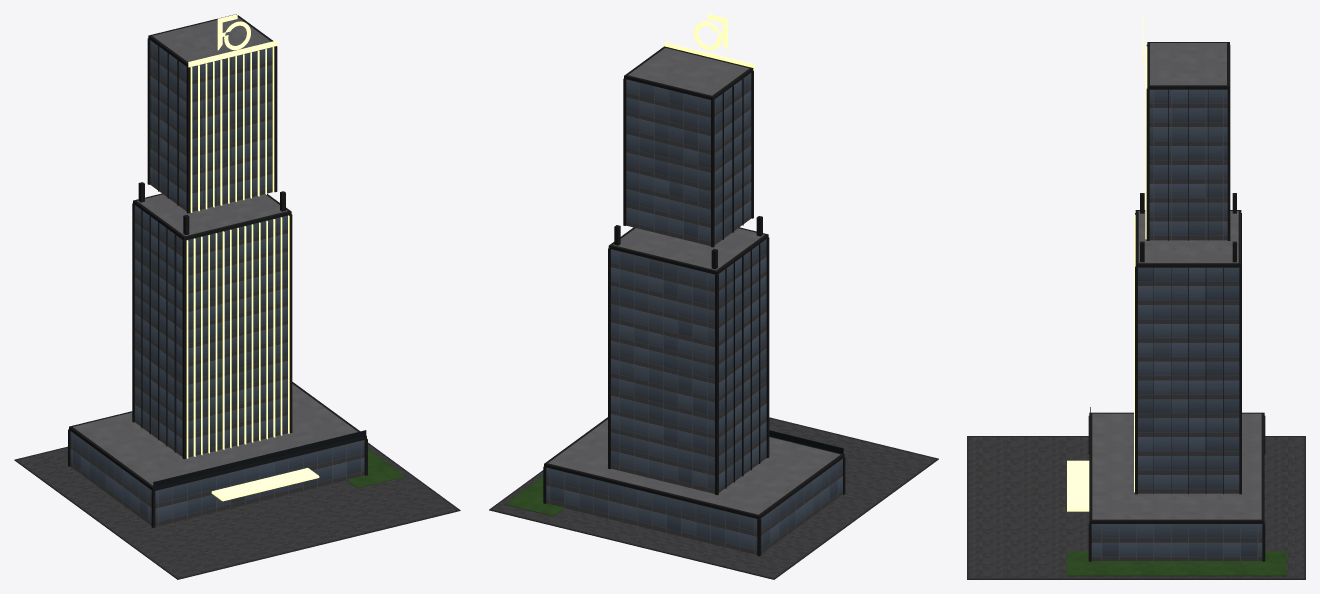
Rendered from sponsor_L5.glb.
3 views of the same model, side by side, from view 1: azimuth 30°, elevation 25°; view 2: azimuth 150°, elevation 25°; view 3: azimuth 270°, elevation 25° (orthographic). The views are drawn at different scales.
Visible parts, largest first — view 1: emissive_curtain_sponsor_L5, paving_sponsor_L5, emissive_led_sponsor_L5, roofing_sponsor_L5, black_metal_sponsor_L5, concrete_dark_sponsor_L5, glass_sponsor_L5, lawn_sponsor_L5; view 2: emissive_curtain_sponsor_L5, roofing_sponsor_L5, paving_sponsor_L5, black_metal_sponsor_L5, concrete_dark_sponsor_L5, emissive_led_sponsor_L5, lawn_sponsor_L5; view 3: emissive_curtain_sponsor_L5, paving_sponsor_L5, roofing_sponsor_L5, black_metal_sponsor_L5, lawn_sponsor_L5, emissive_led_sponsor_L5, concrete_dark_sponsor_L5.
Boxes of the visible parts, box(x1,y1,x2,y2) form: emissive_curtain_sponsor_L5: box(70, 40, 364, 526); paving_sponsor_L5: box(17, 444, 457, 577); emissive_led_sponsor_L5: box(186, 14, 319, 501); roofing_sponsor_L5: box(73, 17, 357, 485); black_metal_sponsor_L5: box(68, 14, 367, 527); concrete_dark_sponsor_L5: box(14, 442, 460, 579); glass_sponsor_L5: box(153, 430, 366, 487); lawn_sponsor_L5: box(347, 448, 405, 488); emissive_curtain_sponsor_L5: box(546, 73, 842, 554); roofing_sponsor_L5: box(548, 48, 840, 514); paving_sponsor_L5: box(492, 418, 935, 577); black_metal_sponsor_L5: box(543, 46, 845, 556); concrete_dark_sponsor_L5: box(489, 417, 938, 579); emissive_led_sponsor_L5: box(664, 14, 754, 69); lawn_sponsor_L5: box(504, 476, 564, 516); emissive_curtain_sponsor_L5: box(1091, 89, 1262, 560); paving_sponsor_L5: box(968, 437, 1304, 578); roofing_sponsor_L5: box(1092, 43, 1261, 519); black_metal_sponsor_L5: box(1088, 42, 1265, 561); lawn_sponsor_L5: box(1067, 551, 1286, 576); emissive_led_sponsor_L5: box(1067, 14, 1147, 511); concrete_dark_sponsor_L5: box(967, 436, 1305, 579).
Size of the model in its own units: 58.6 by 92.72 by 58.6.
Materials: 9 (5 with a texture image).
